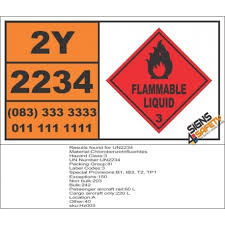FlammableLiquid: (111, 25, 208, 131)
